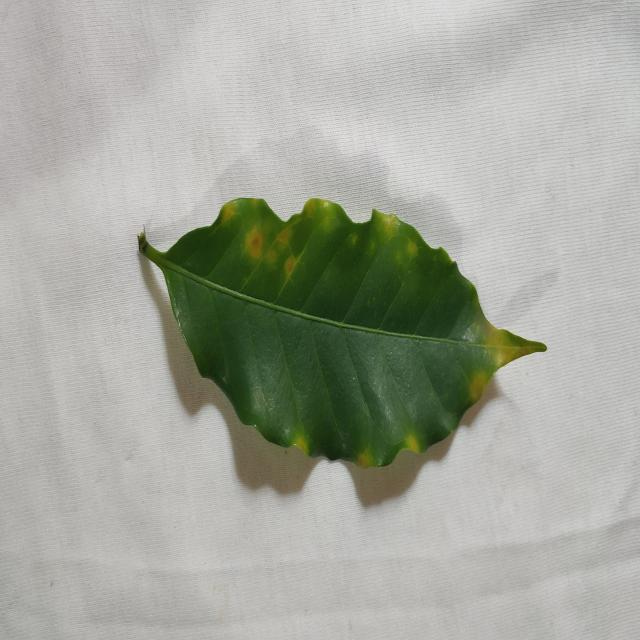Enfermedad-Roya: (136, 199, 548, 472)
